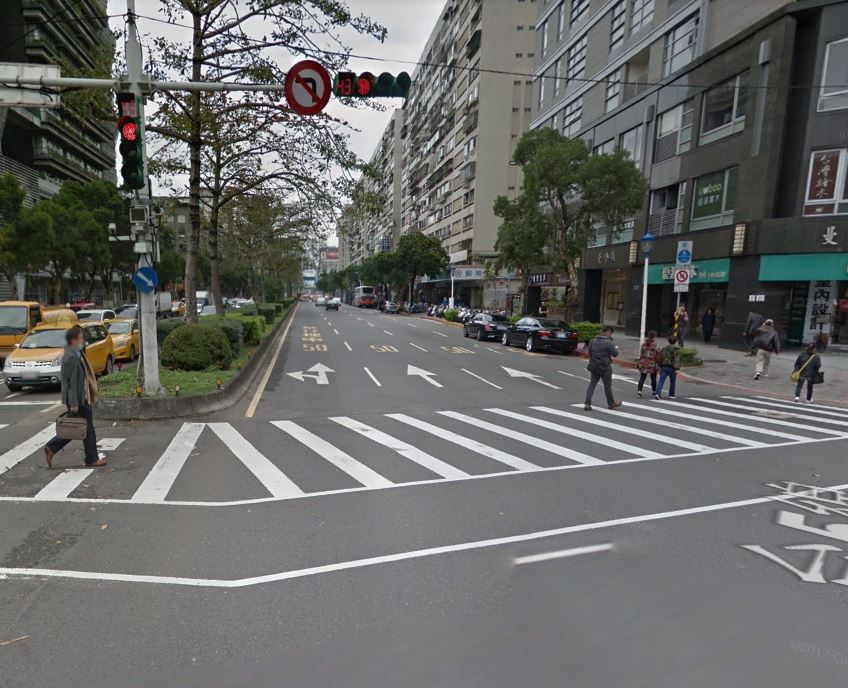No_left_turn: (284, 60, 331, 115)
Traffic_light_red: (333, 72, 411, 97)
